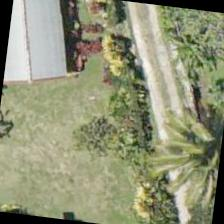Kelapa_Sawit: (158, 105, 223, 203)
